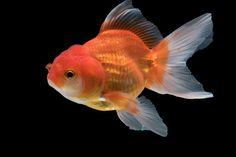goldfish: (42, 1, 215, 138)
